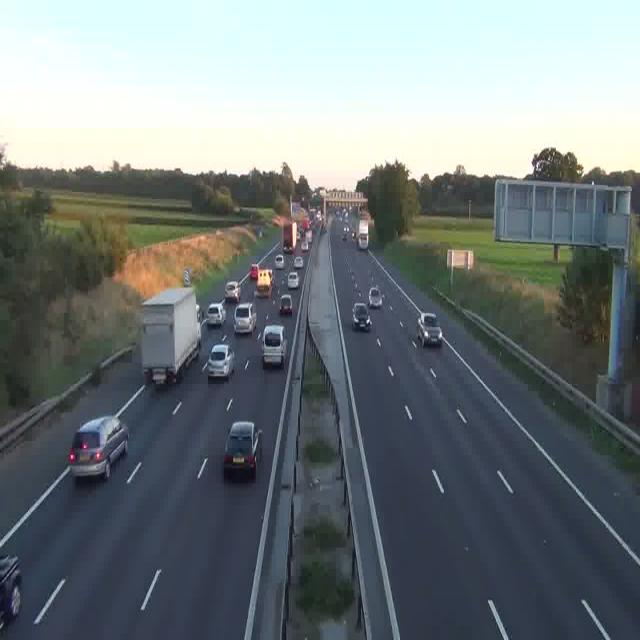car: (68, 415, 128, 480), (224, 421, 262, 478), (0, 554, 22, 626), (261, 325, 287, 368), (206, 344, 234, 380), (416, 310, 442, 347), (234, 304, 254, 333), (352, 302, 370, 331), (203, 304, 223, 325), (368, 286, 383, 308), (224, 282, 240, 301), (279, 294, 293, 315), (254, 268, 268, 288), (287, 271, 299, 288), (275, 257, 285, 270), (250, 264, 260, 277), (300, 240, 308, 251)
truck: (139, 288, 203, 386), (282, 218, 296, 250), (356, 220, 370, 250)
